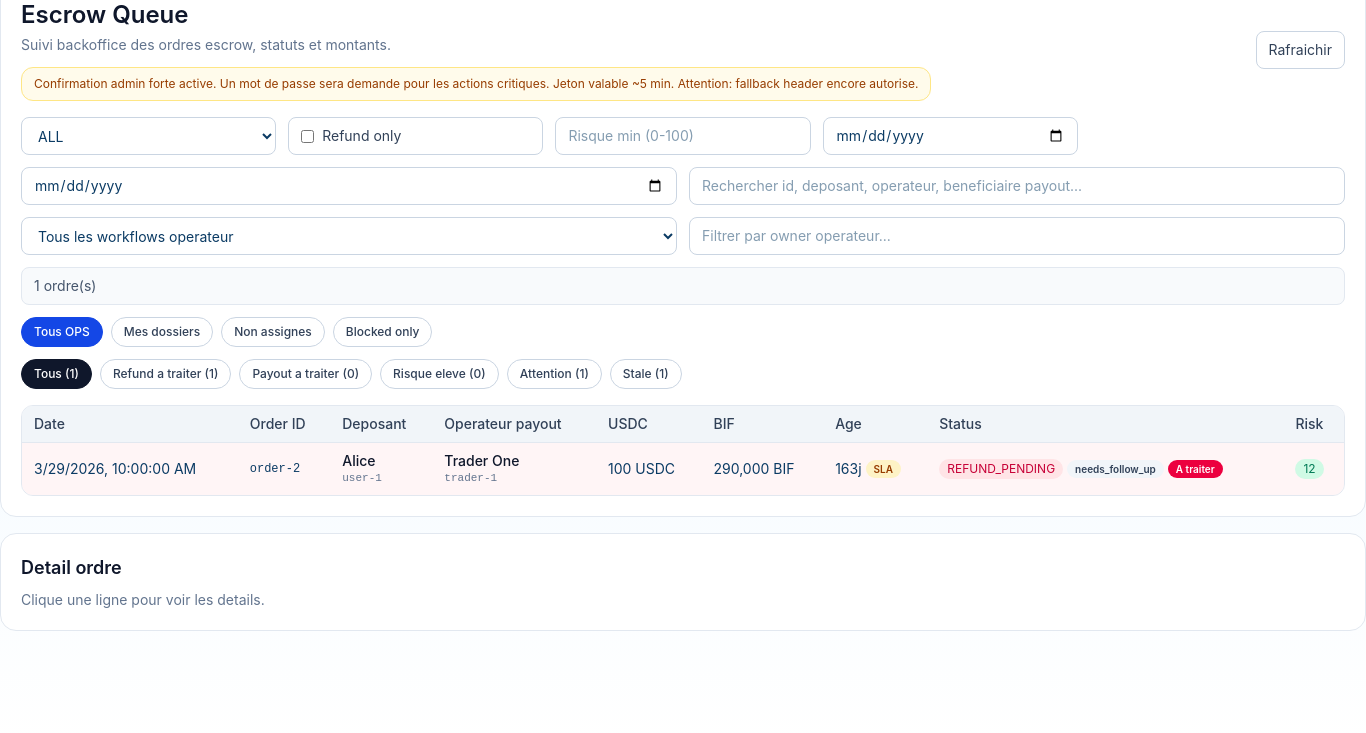
Test: EscrowQueue › renders refund audit labels from the API detail payload
This screenshot has width=1366, height=733.
Click the text "order-2": (284, 469) [238, 442, 330, 495]
(page scrolled)
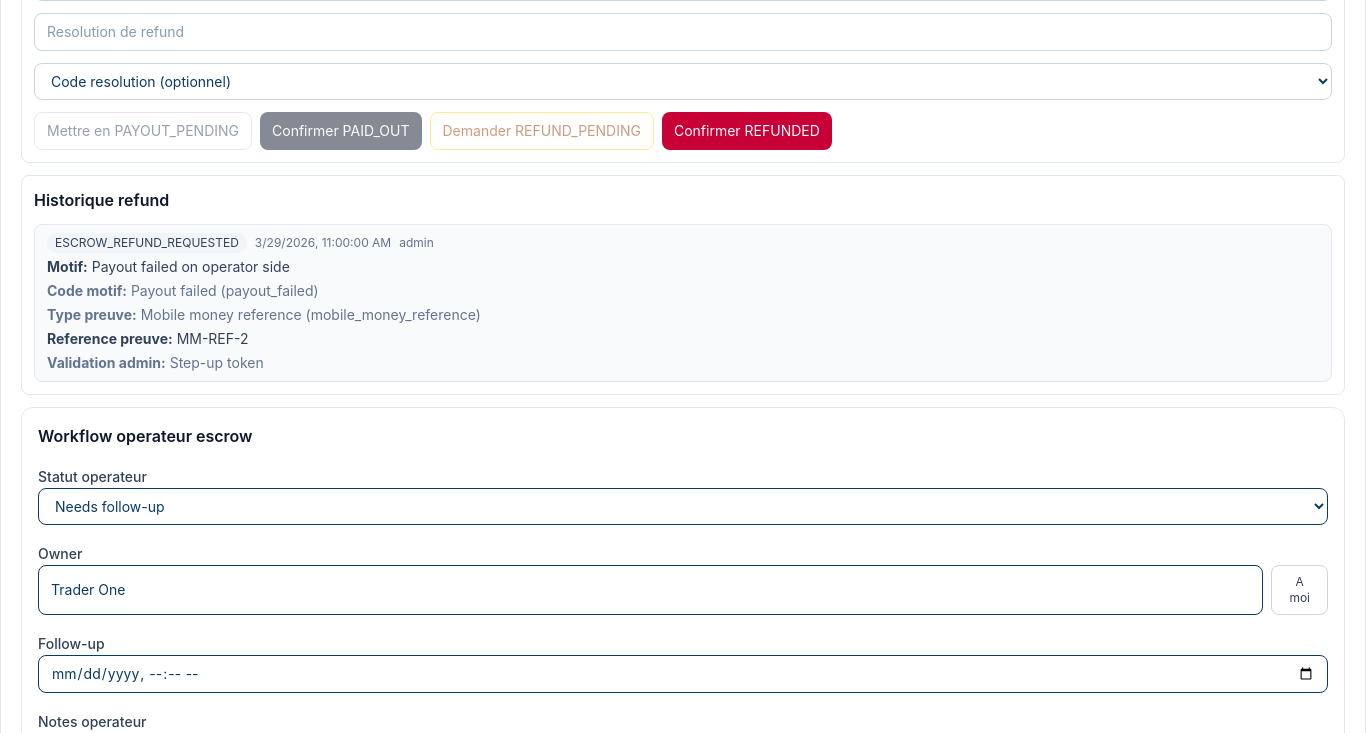
expect the text "Code motif: Payout failed (payout_failed)" is shown: met, box [47, 282, 319, 299]
expect the text "Type preuve: Mobile money reference (mobile_money_reference)" is shown: met, box [47, 306, 481, 323]
expect the text "Validation admin: Step-up token" is shown: met, box [47, 354, 264, 371]
